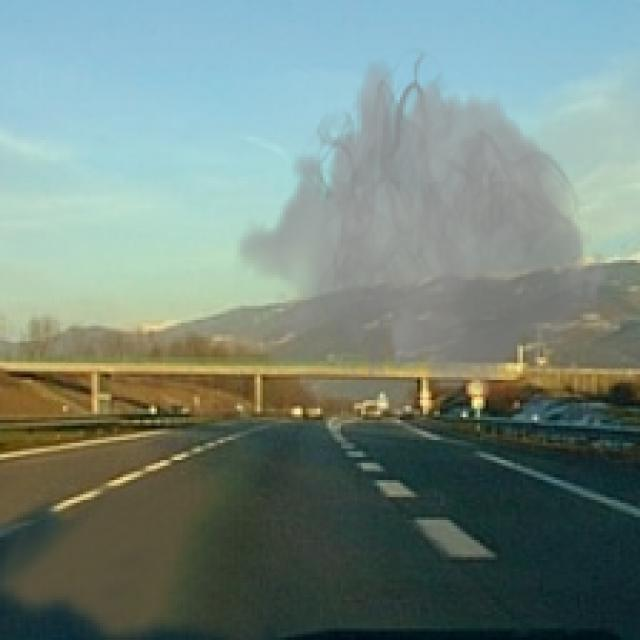Smoke: (234, 46, 612, 432)
